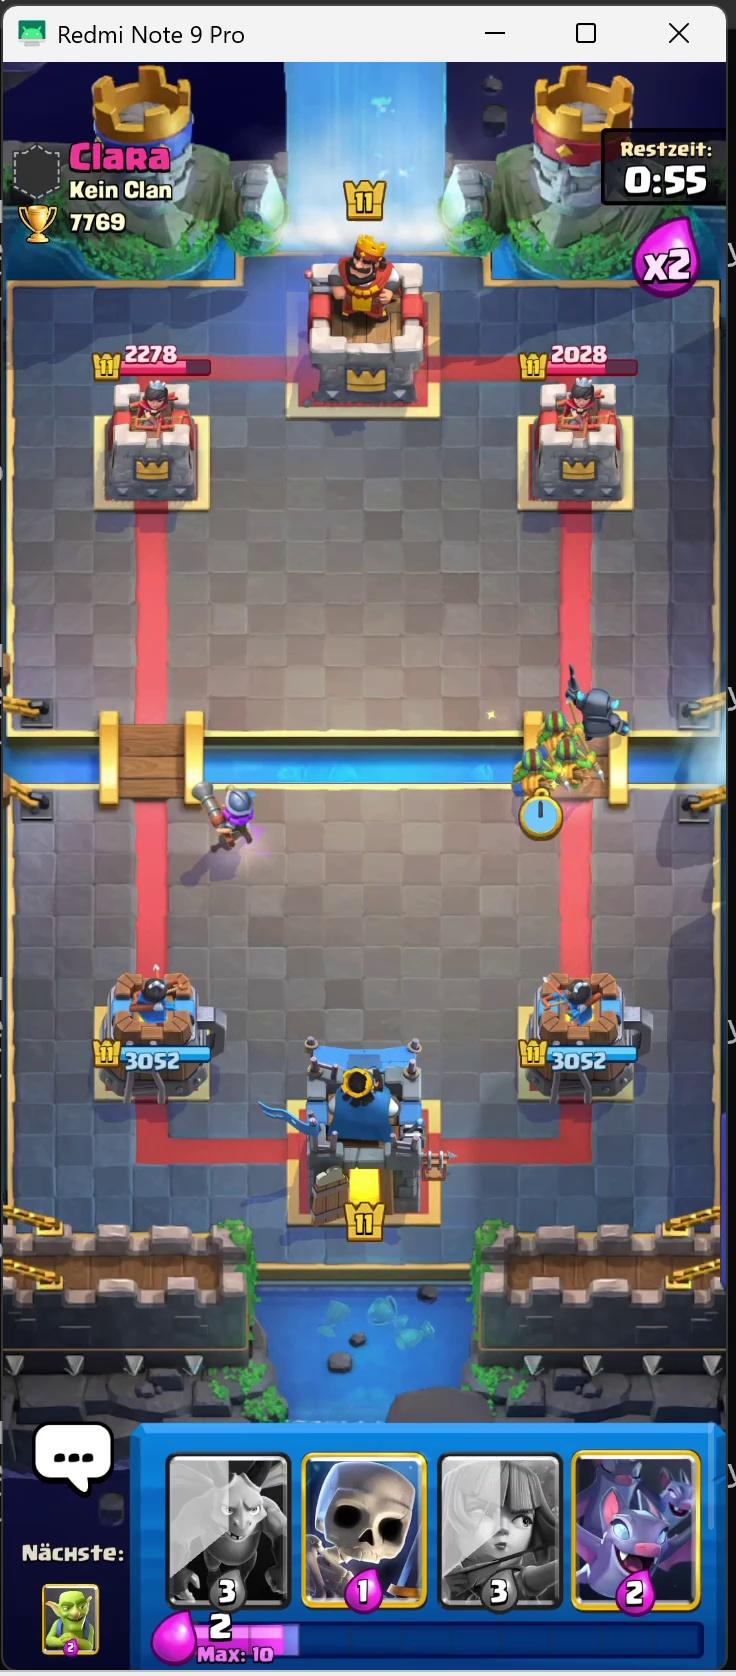gobelin_lances: (554, 736, 608, 786), (514, 749, 552, 789), (544, 705, 569, 752)
mini_PEKKA: (575, 676, 639, 749)
mousquetaire: (210, 783, 269, 859)
